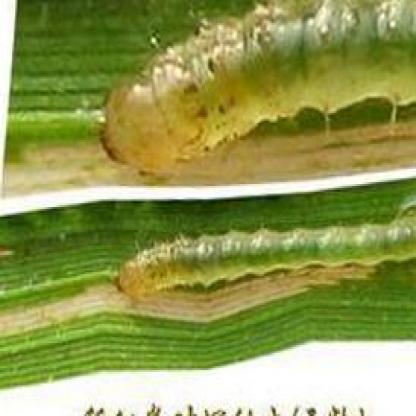leaf-folder: (90, 8, 416, 182), (93, 209, 416, 340)
